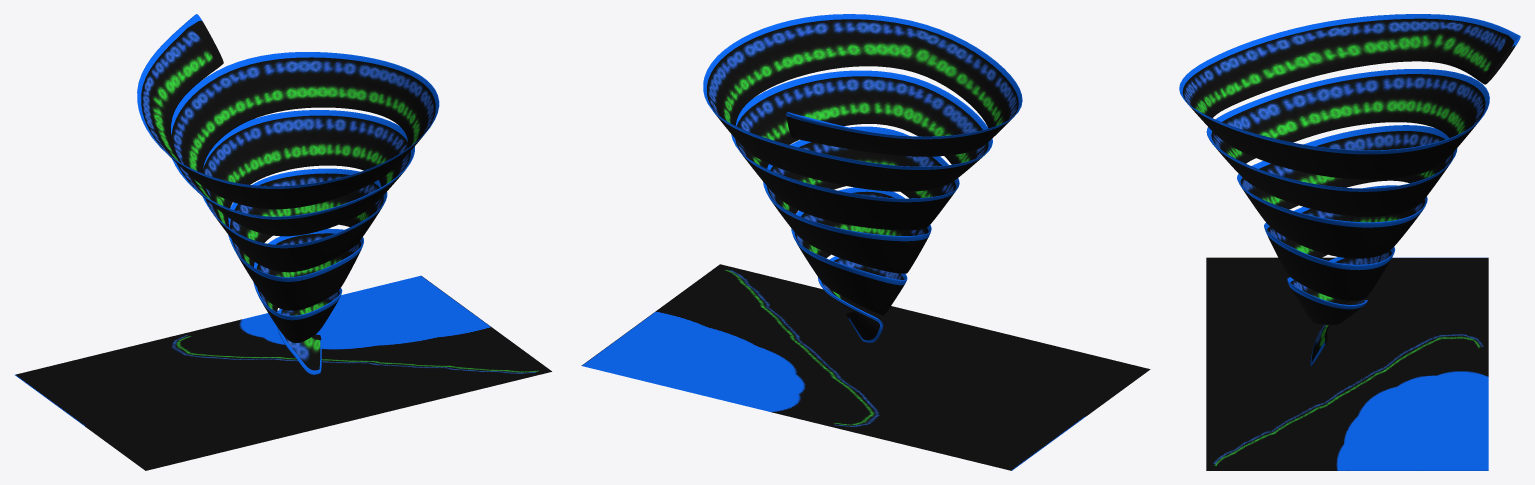
3 views of the same model, side by side, from view 1: azimuth 30°, elevation 25°; view 2: azimuth 150°, elevation 25°; view 3: azimuth 270°, elevation 25° (orthographic). The views are drawn at different scales.
Visible parts, largest first — view 1: Helix001, Plane001; view 2: Helix001, Plane001; view 3: Helix001, Plane001.
Part boxes in pixels (x1,y1,x2,y2): Helix001: (137,14,439,374); Plane001: (15,275,551,470); Helix001: (703,14,1022,342); Plane001: (581,264,1150,470); Helix001: (1179,14,1520,365); Plane001: (1206,257,1488,470).
Bounding box in the file's own units: 165 × 117 × 111.
Materials: 1 (1 with a texture image).
